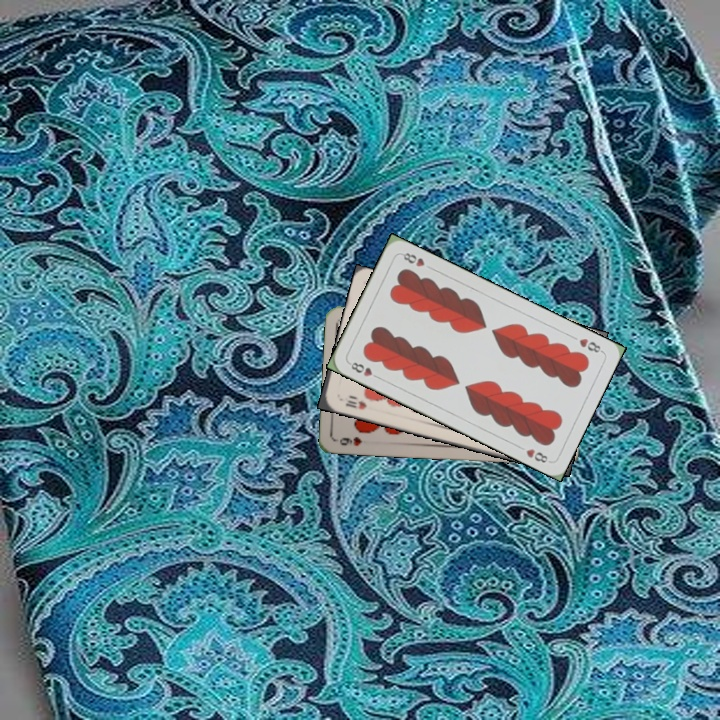H10: (341, 396, 370, 412)
H8: (345, 358, 383, 382), (575, 334, 606, 355)
H9: (335, 432, 364, 448)
